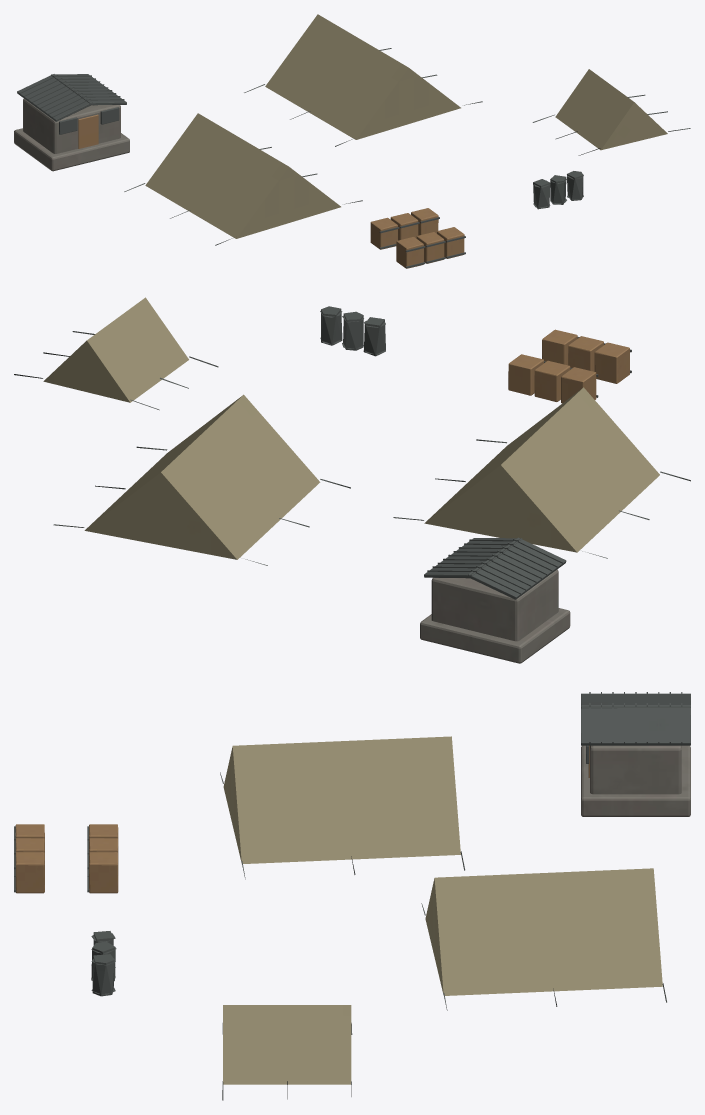
The model's file is cinder-lod2.glb.
3 renders of one model, top to bottom at view 1: azimuth 30°, elevation 25°; view 2: azimuth 150°, elevation 25°; view 3: azimuth 270°, elevation 25°, orthographic. The views are drawn at different scales.
Parts seen in each view (by area): view 1: cinder_ridge_tent_0.001, cinder_ridge_tent_1.001, cinder_generator_shed_6.001, cinder_small_tent_2.001, cinder_crate_stack_4.001, cinder_crate_stack_3.001, cinder_drum_cluster_5.001; view 2: cinder_ridge_tent_1.001, cinder_ridge_tent_0.001, cinder_generator_shed_6.001, cinder_small_tent_2.001, cinder_crate_stack_3.001, cinder_crate_stack_4.001, cinder_drum_cluster_5.001; view 3: cinder_ridge_tent_0.001, cinder_ridge_tent_1.001, cinder_generator_shed_6.001, cinder_small_tent_2.001, cinder_crate_stack_3.001, cinder_crate_stack_4.001, cinder_drum_cluster_5.001.
Part boxes in pixels (left/top/right/bottom): cinder_ridge_tent_0.001: left=124, top=113, right=362, bottom=245; cinder_ridge_tent_1.001: left=244, top=14, right=482, bottom=146; cinder_generator_shed_6.001: left=14, top=74, right=129, bottom=171; cinder_small_tent_2.001: left=532, top=69, right=690, bottom=155; cinder_crate_stack_4.001: left=396, top=227, right=465, bottom=268; cinder_crate_stack_3.001: left=370, top=208, right=439, bottom=249; cinder_drum_cluster_5.001: left=533, top=171, right=583, bottom=209; cinder_ridge_tent_1.001: left=53, top=394, right=350, bottom=565; cinder_ridge_tent_0.001: left=393, top=387, right=690, bottom=558; cinder_generator_shed_6.001: left=420, top=537, right=570, bottom=663; cinder_small_tent_2.001: left=14, top=297, right=218, bottom=410; cinder_crate_stack_3.001: left=508, top=354, right=598, bottom=403; cinder_crate_stack_4.001: left=542, top=329, right=631, bottom=383; cinder_drum_cluster_5.001: left=320, top=306, right=385, bottom=356; cinder_ridge_tent_0.001: left=220, top=736, right=465, bottom=879; cinder_ridge_tent_1.001: left=421, top=868, right=666, bottom=1010; cinder_generator_shed_6.001: left=581, top=692, right=690, bottom=816; cinder_small_tent_2.001: left=222, top=1005, right=352, bottom=1100; cinder_crate_stack_3.001: left=87, top=824, right=118, bottom=893; cinder_crate_stack_4.001: left=14, top=824, right=44, bottom=893; cinder_drum_cluster_5.001: left=91, top=931, right=116, bottom=996.
Bounding box in the file's own units: 45.5 × 5.8 × 36.88.
4 materials, 4 textured.
